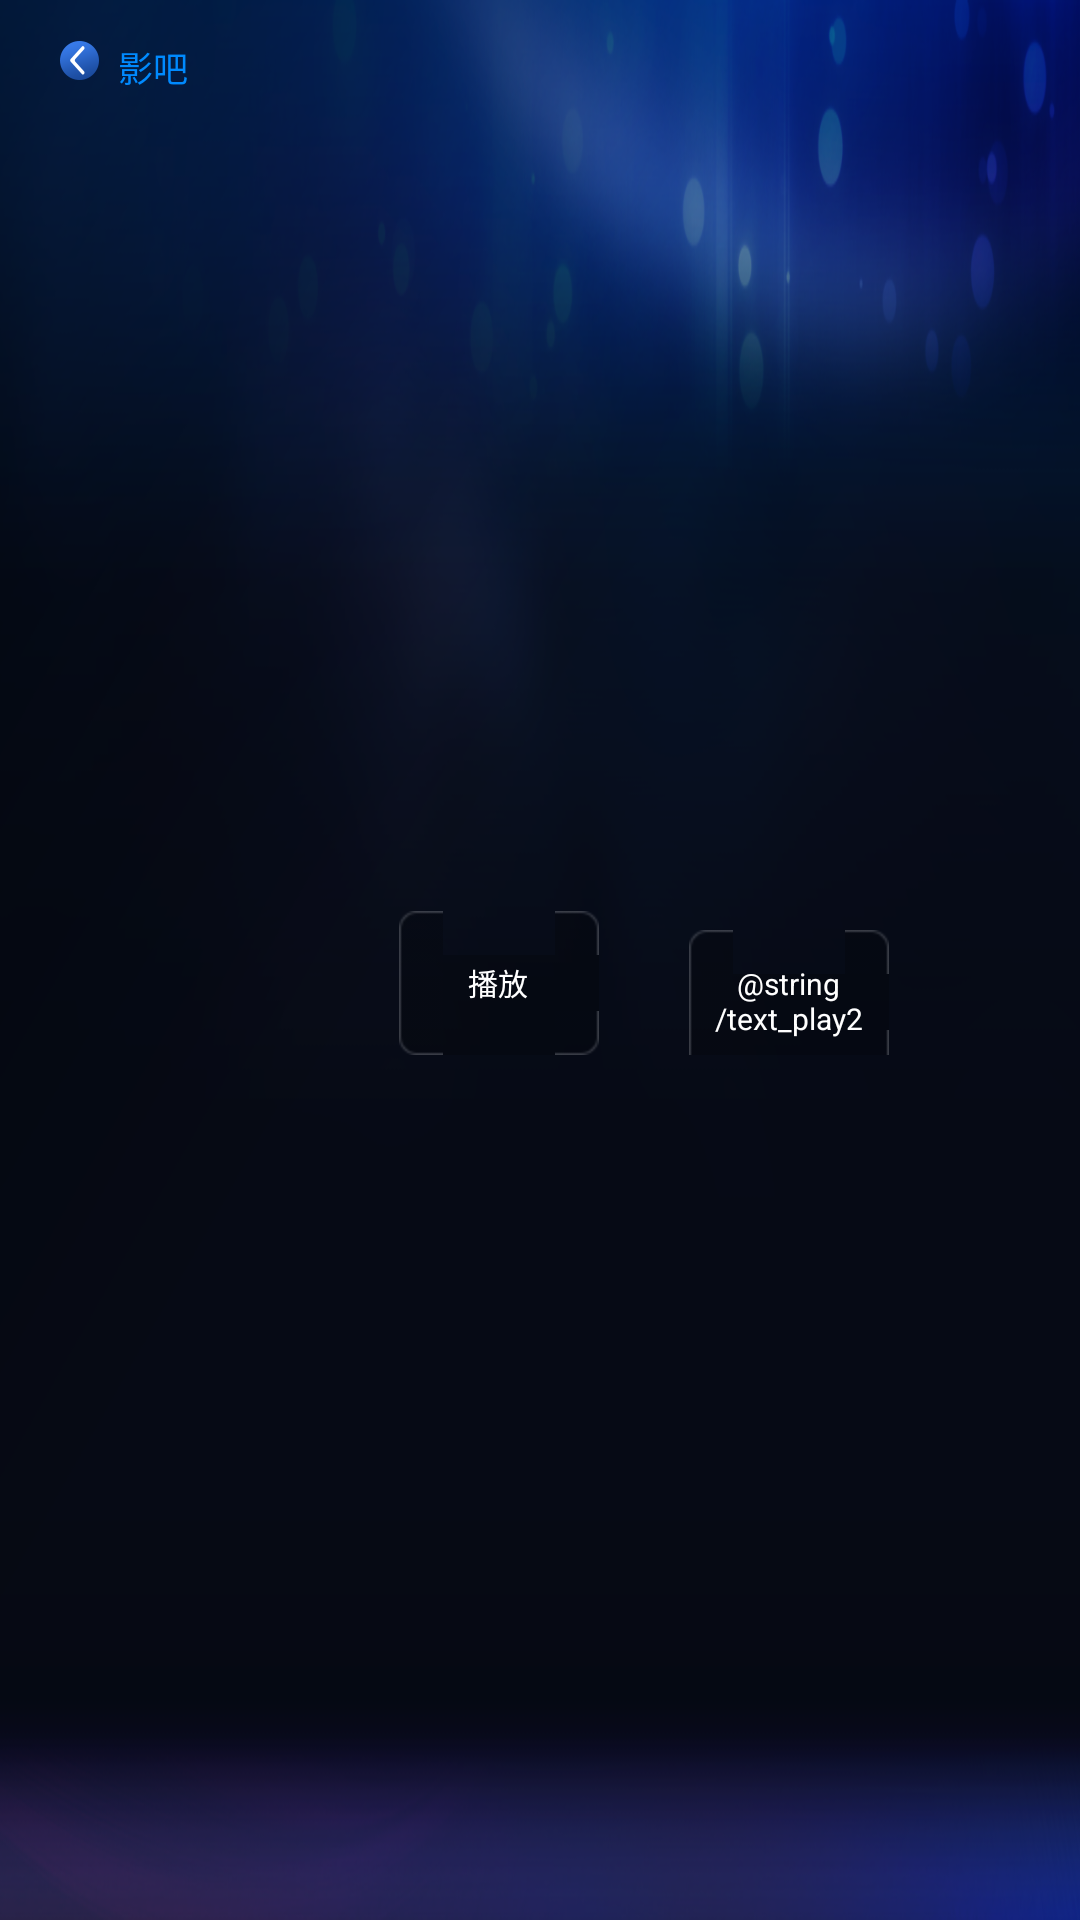

Point at icon controls on the screen. Image size 1080x1920, points as (x=x, y=y).
back: (x=79, y=60)
